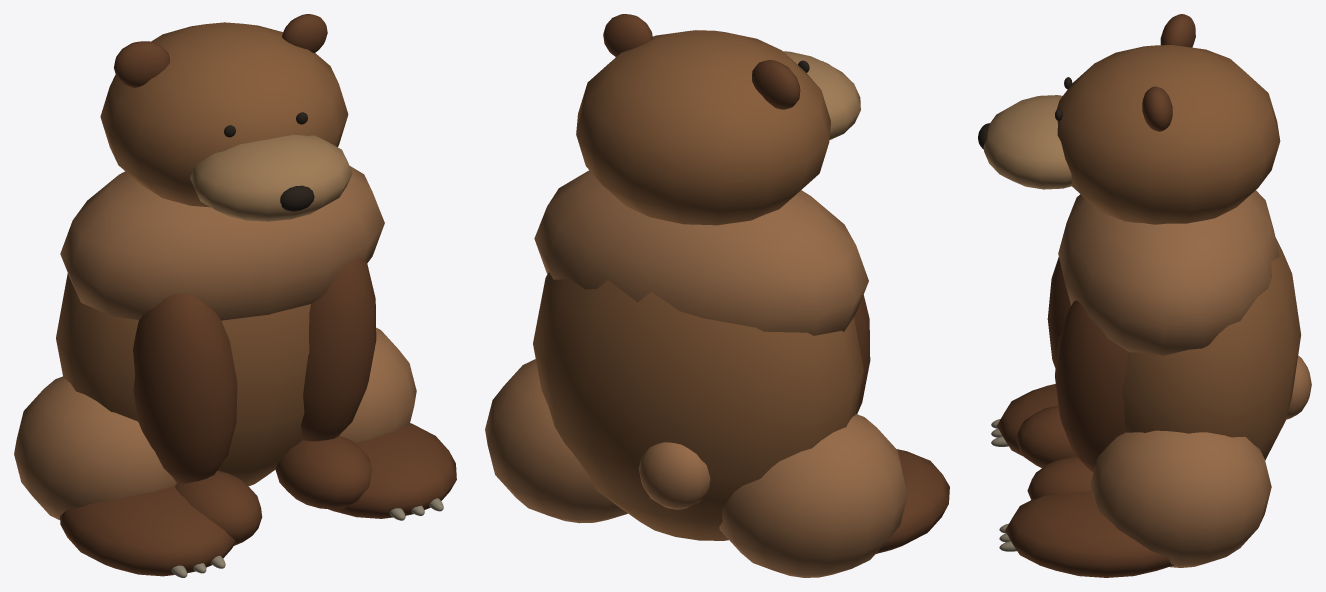
File: sitting_bear.glb
3 renders of one model, left to right at view 1: azimuth 30°, elevation 25°; view 2: azimuth 150°, elevation 25°; view 3: azimuth 270°, elevation 25°, orthographic. The views are drawn at different scales.
Visible parts, largest first — view 1: Shoulders, Head, Body, FrontLeg_Left, HindLeg_Left, HindPaw_Left, FrontLeg_Right, Muzzle, HindPaw_Right, FrontPaw_Right, HindLeg_Right, FrontPaw_Left (+3 smaller); view 2: Body, Head, Shoulders, HindLeg_Left, HindLeg_Right, Tail, HindPaw_Left, Muzzle, Ear_Left, Ear_Right, FrontLeg_Left; view 3: Head, Shoulders, HindLeg_Right, Body, HindPaw_Right, FrontLeg_Right, Muzzle, FrontPaw_Left, FrontPaw_Right, HindPaw_Left, FrontLeg_Left, Ear_Right (+2 smaller).
Boxes of the visible parts, x1=… form: Shoulders: x1=60, y1=165, x2=384, y2=320; Head: x1=100, y1=22, x2=348, y2=207; Body: x1=56, y1=273, x2=310, y2=486; FrontLeg_Left: x1=133, y1=294, x2=237, y2=483; HindLeg_Left: x1=14, y1=376, x2=176, y2=519; HindPaw_Left: x1=60, y1=486, x2=235, y2=576; FrontLeg_Right: x1=301, y1=258, x2=376, y2=441; Muzzle: x1=190, y1=134, x2=352, y2=221; HindPaw_Right: x1=329, y1=423, x2=456, y2=518; FrontPaw_Right: x1=275, y1=436, x2=371, y2=509; HindLeg_Right: x1=339, y1=327, x2=416, y2=442; FrontPaw_Left: x1=175, y1=470, x2=262, y2=545; Body: x1=533, y1=272, x2=863, y2=540; Head: x1=576, y1=30, x2=830, y2=225; Shoulders: x1=534, y1=170, x2=868, y2=335; HindLeg_Left: x1=719, y1=414, x2=907, y2=577; HindLeg_Right: x1=485, y1=359, x2=627, y2=523; Tail: x1=638, y1=442, x2=710, y2=509; HindPaw_Left: x1=876, y1=449, x2=949, y2=553; Muzzle: x1=783, y1=51, x2=860, y2=140; Ear_Left: x1=752, y1=60, x2=800, y2=109; Ear_Right: x1=603, y1=14, x2=652, y2=56; FrontLeg_Left: x1=854, y1=295, x2=870, y2=413; Head: x1=1056, y1=45, x2=1280, y2=224; Shoulders: x1=1058, y1=190, x2=1279, y2=355; HindLeg_Right: x1=1090, y1=430, x2=1271, y2=567; Body: x1=1069, y1=237, x2=1300, y2=460; HindPaw_Right: x1=1005, y1=491, x2=1173, y2=577; FrontLeg_Right: x1=1055, y1=300, x2=1127, y2=471; Muzzle: x1=983, y1=95, x2=1072, y2=189; FrontPaw_Left: x1=1015, y1=405, x2=1076, y2=467; FrontPaw_Right: x1=1027, y1=456, x2=1093, y2=499; HindPaw_Left: x1=997, y1=384, x2=1058, y2=456; FrontLeg_Left: x1=1047, y1=257, x2=1070, y2=368; Ear_Right: x1=1142, y1=86, x2=1172, y2=131.
Bounding box in the file's own units: 3.58 × 4.28 × 2.83.
